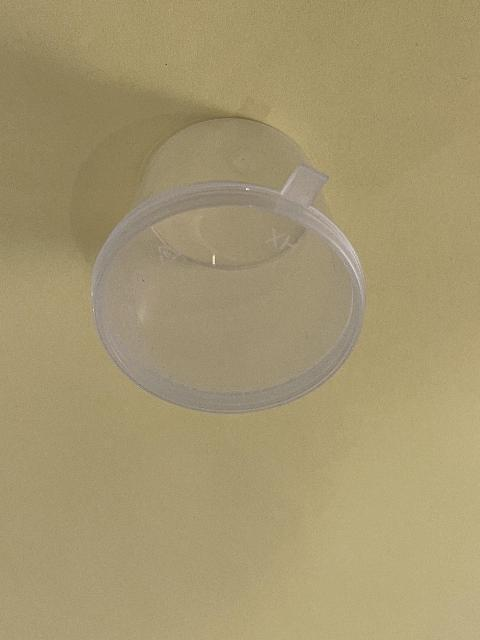plasticcontainer: (88, 112, 370, 418)
